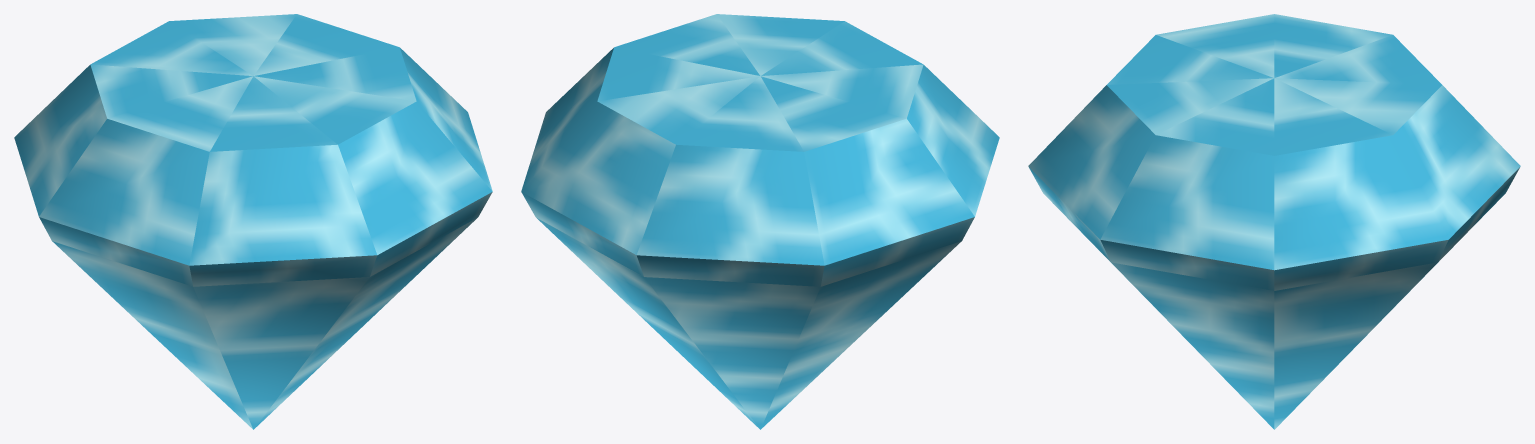
File: SM_Pickup_Diamond.fbx
3 views of the same model, side by side, from view 1: azimuth 30°, elevation 25°; view 2: azimuth 150°, elevation 25°; view 3: azimuth 270°, elevation 25° (orthographic).
Parts seen in each view (by area): view 1: SM_Pickup_Diamond; view 2: SM_Pickup_Diamond; view 3: SM_Pickup_Diamond.
Part boxes in pixels (x1,y1,x2,y2): SM_Pickup_Diamond: (14,14,492,429); SM_Pickup_Diamond: (521,14,999,429); SM_Pickup_Diamond: (1028,14,1520,429).
Size of the model in its own units: 1.32 by 1.04 by 1.32.
Materials: 1 (1 with a texture image).
